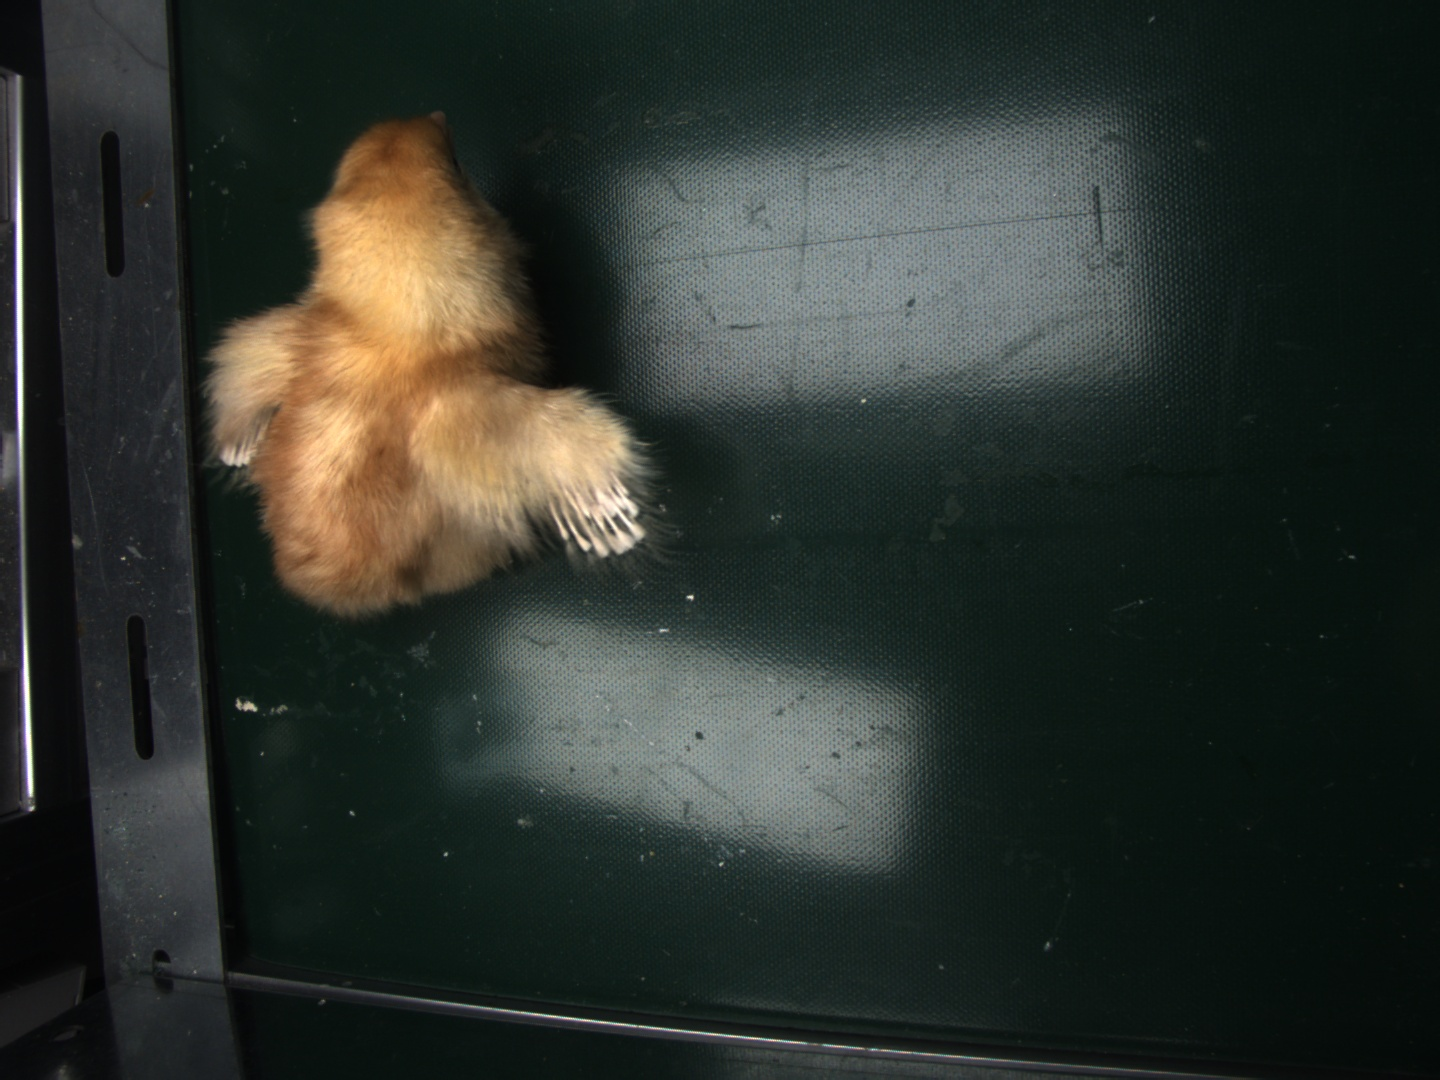female: (548, 473, 644, 554)
